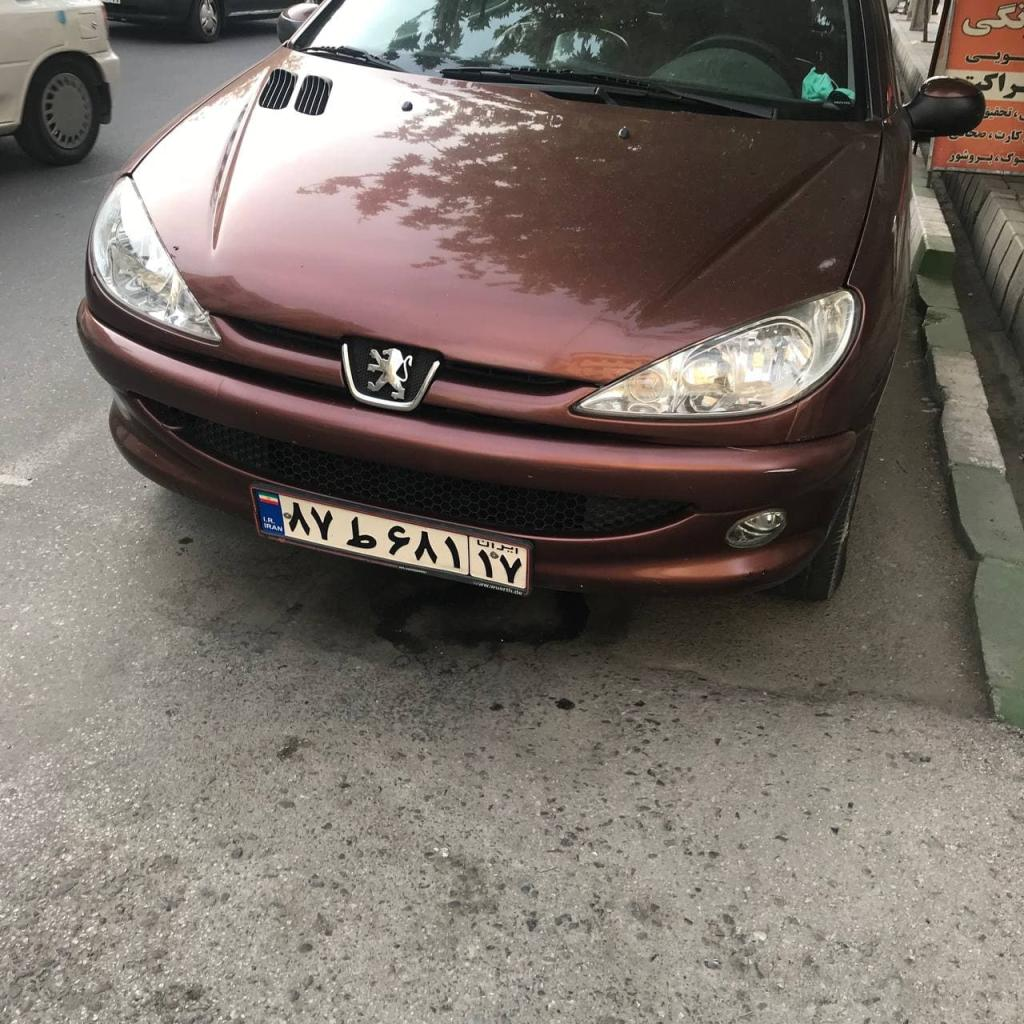Plates: (254, 489, 527, 589)
